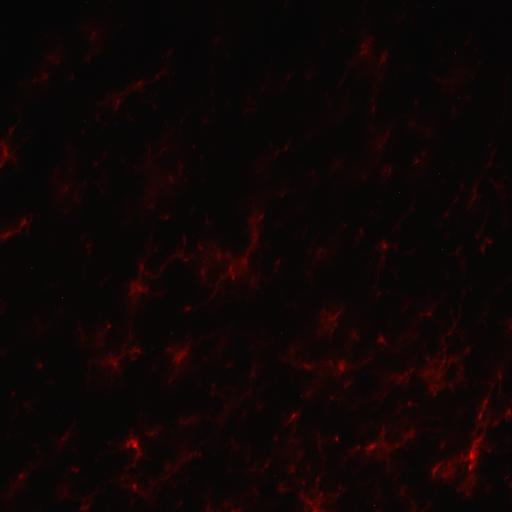microglia: (431, 376, 512, 504), (182, 201, 268, 314), (426, 151, 508, 264), (369, 334, 474, 408), (121, 229, 183, 325), (280, 342, 371, 402), (99, 54, 174, 120), (136, 128, 188, 221), (338, 33, 394, 114), (341, 418, 420, 474), (75, 323, 141, 385), (427, 41, 484, 107), (279, 453, 334, 512), (214, 367, 262, 433), (355, 124, 399, 184), (50, 144, 86, 216), (162, 439, 209, 487), (116, 422, 160, 472), (253, 134, 293, 182), (366, 235, 403, 285), (159, 336, 196, 386), (2, 458, 38, 506), (116, 471, 157, 512), (24, 43, 64, 85), (304, 234, 339, 282), (0, 119, 31, 171), (313, 303, 345, 345), (0, 212, 35, 245), (79, 22, 105, 64), (52, 419, 79, 455), (53, 467, 78, 505), (78, 484, 101, 512), (283, 410, 298, 426), (376, 334, 386, 346)
